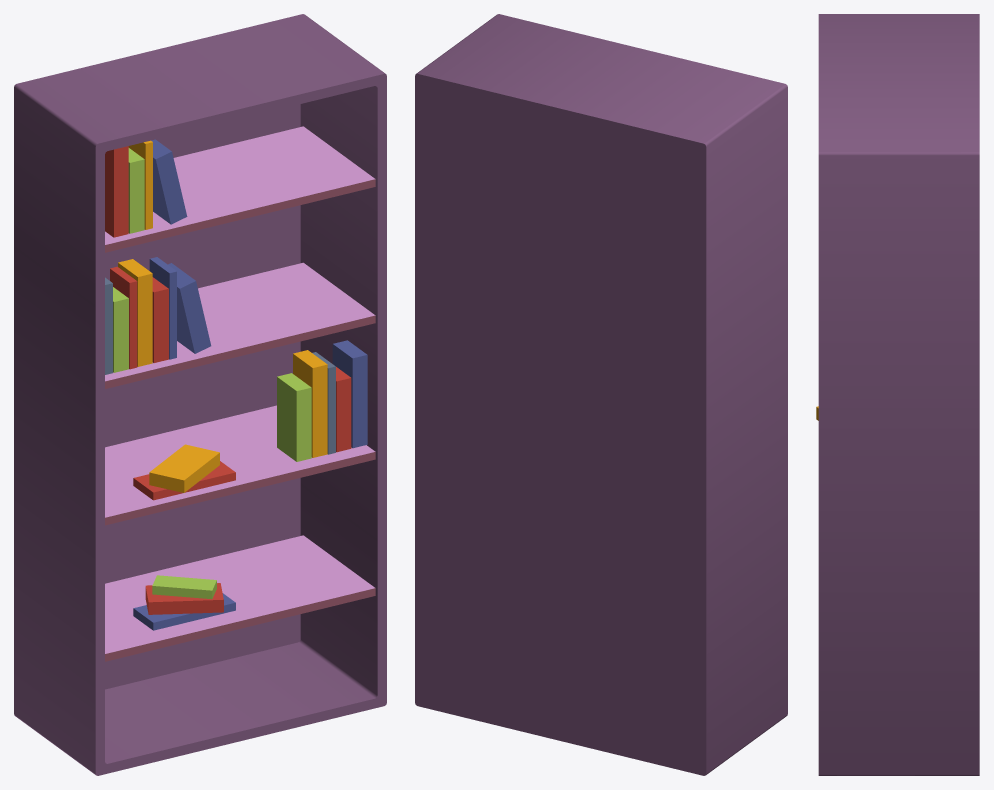
The model's file is bookshelf_2.fbx.
3 renders of one model, left to right at view 1: azimuth 30°, elevation 25°; view 2: azimuth 150°, elevation 25°; view 3: azimuth 270°, elevation 25°, orthographic.
Parts seen in each view (by area): view 1: bookshelf_2; view 2: bookshelf_2; view 3: bookshelf_2.
Part boxes in pixels (x1,y1,x2,y2): bookshelf_2: [14, 14, 386, 775]; bookshelf_2: [415, 14, 787, 775]; bookshelf_2: [816, 14, 979, 775].
Bounding box in the file's own units: 106 × 220 × 52.27.
